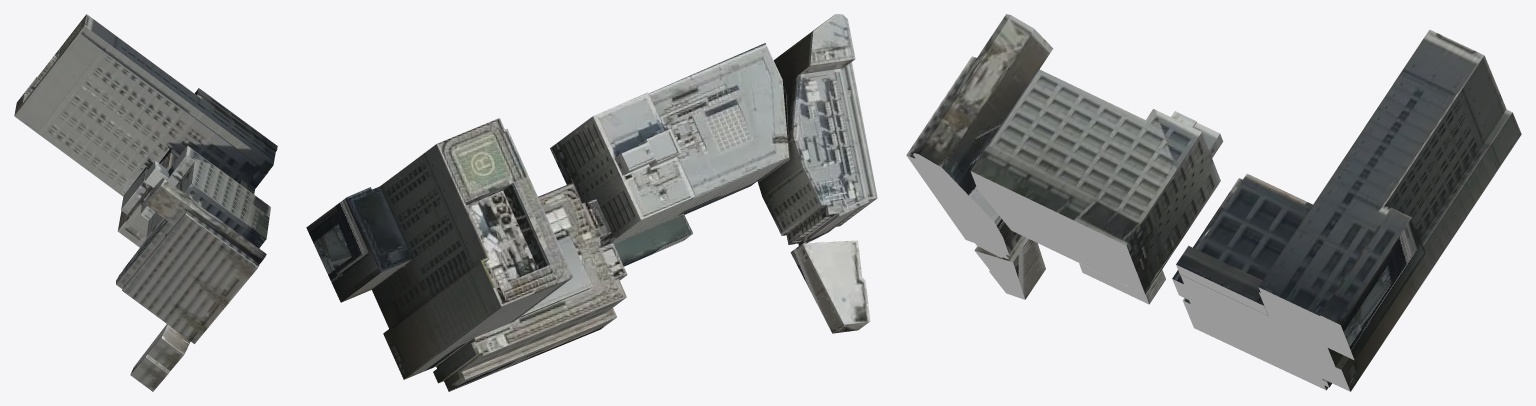
The model's file is data570.glb.
The picture shows the model from 3 angles, left to right: view 1: azimuth 30°, elevation 25°; view 2: azimuth 150°, elevation 25°; view 3: azimuth 270°, elevation 25°; orthographic projection. The views are drawn at different scales.
Size of the model in its own units: 98.28 by 81.64 by 142.
2 materials, 1 textured.
